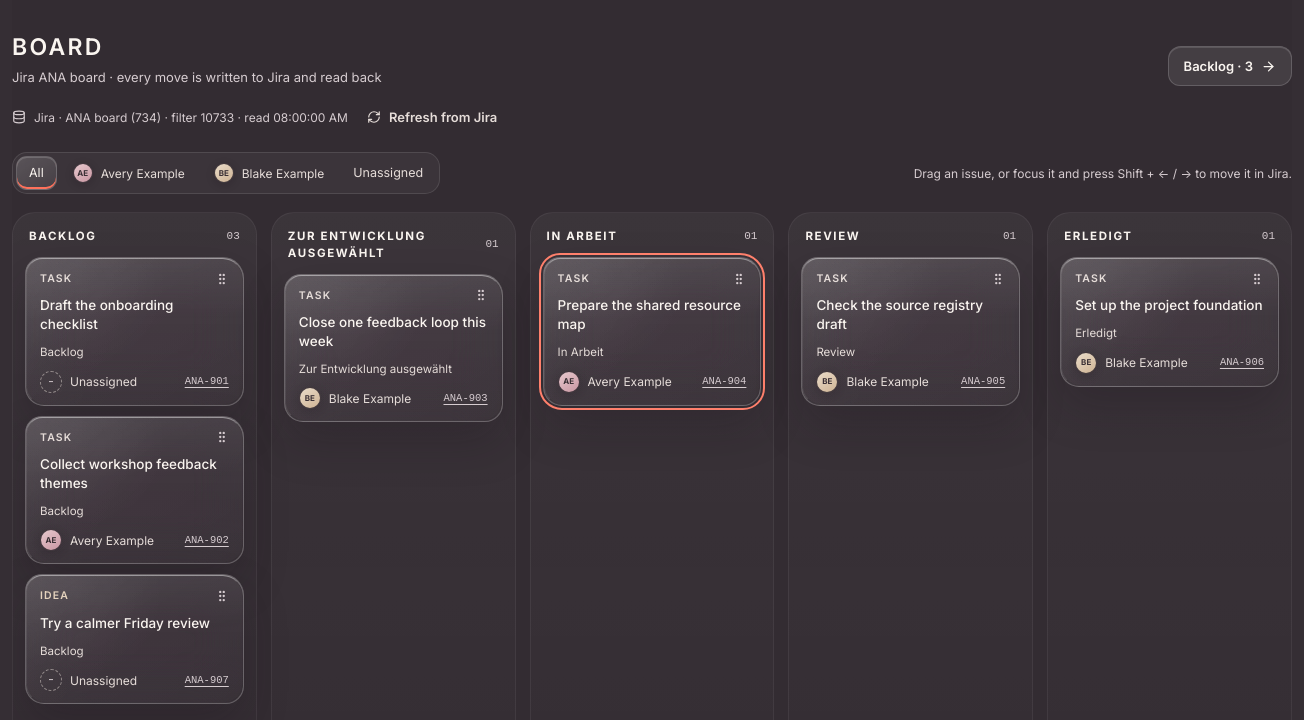
Board — Jira projection › a refused move is marked on the card itself, and the card leads to the full notice (long boards)
Type keys "{Shift>}{ArrowRight}{/Shift}"
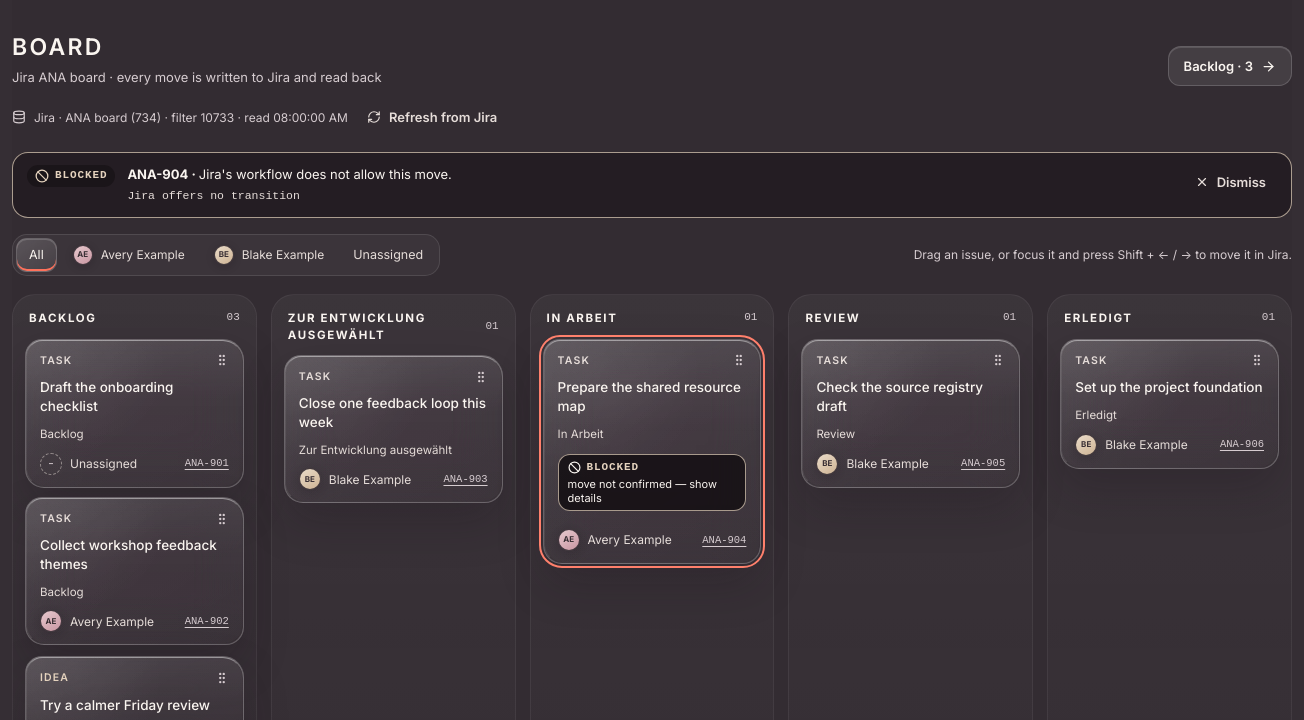
Check: the button with test id "ticket-failure" shows "BLOCKED"
Click the button with test id "ticket-failure".
click(652, 483)  # box [558,454,746,511]
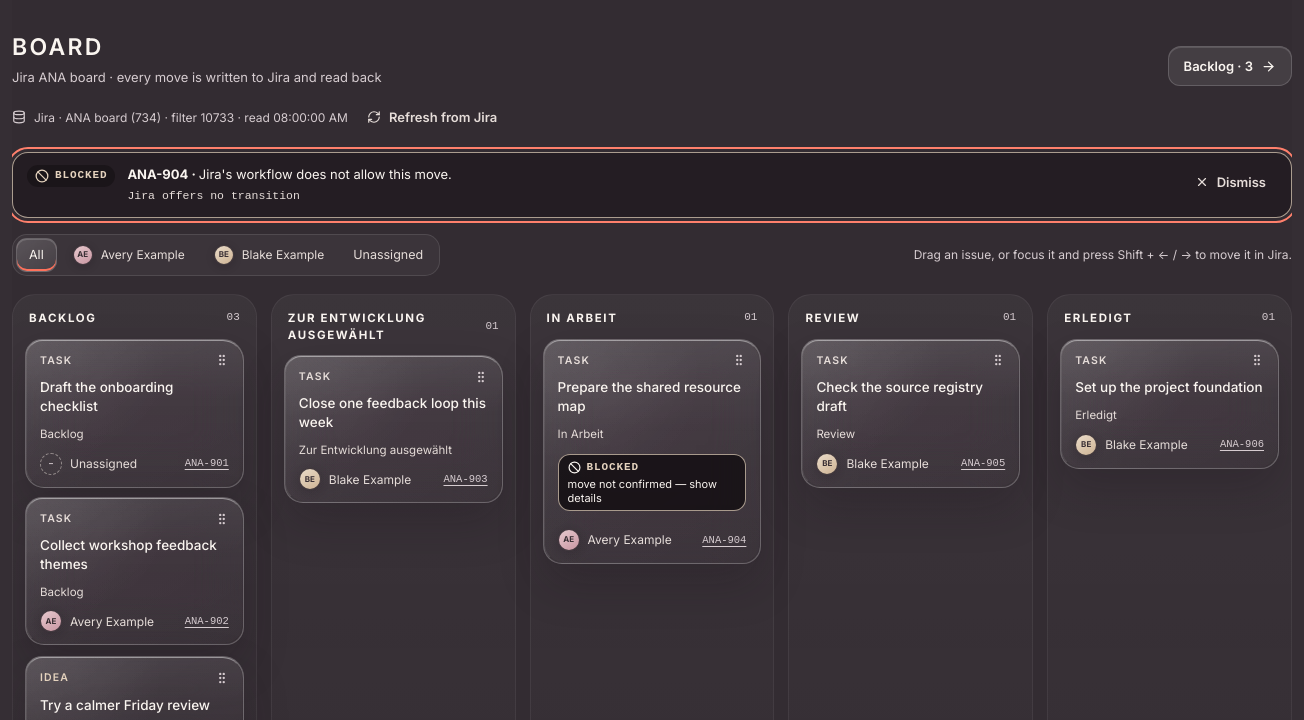
Note: dismissing the notice clears the mark on the card too
Click the button "Dismiss".
click(1230, 182)  # box [1184,165,1277,199]
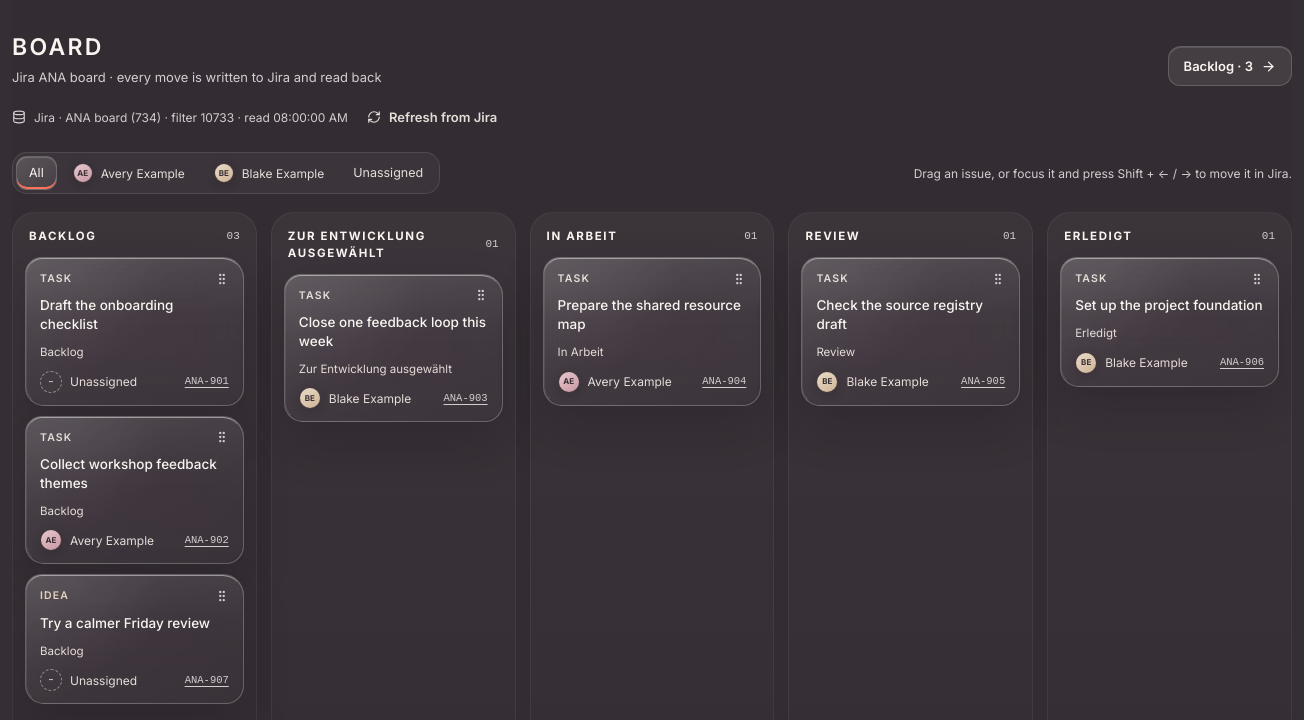
Check: the button with test id "ticket-failure" is gone
